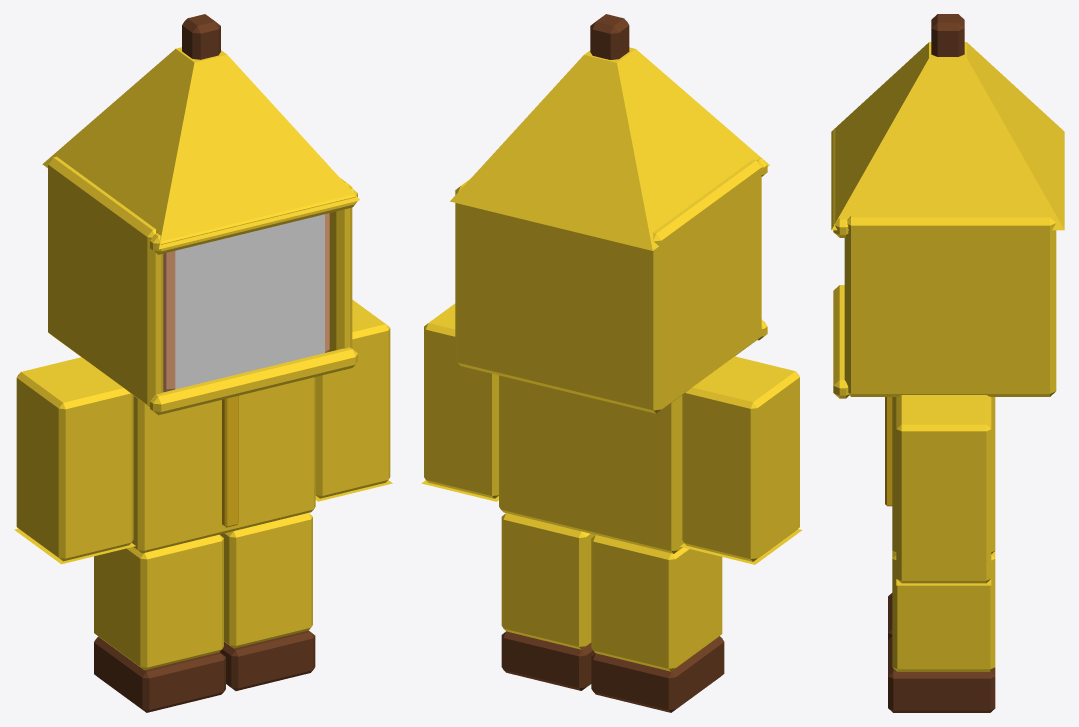
Rendered from nana.glb.
The picture shows the model from 3 angles, left to right: view 1: azimuth 30°, elevation 25°; view 2: azimuth 150°, elevation 25°; view 3: azimuth 270°, elevation 25°; orthographic projection.
Visible parts, largest first — view 1: Cone, Cube.004, Cube.005, Plane, Cube.010, Cube, Cube.007, Cube.002, Cube.001, Cube.014, Cube.003, Cube.011 (+4 smaller); view 2: Cube.012, Cone, Cube.004, Cube.005, Cube.010, Cube, Cube.007, Cube.002, Cube.001, Cube.003, Cube.015; view 3: Cube.011, Cone, Cube.007, Cube.002, Cube.003, Cube.012, Cube.004, Cube.015, Cube.014, Cube.016, Cube.013.
Boxes of the visible parts, box(x1,y1,x2,y2) form: Cone: box(42, 47, 359, 249); Cube.004: box(131, 377, 315, 553); Cube.005: box(16, 357, 133, 561); Plane: box(175, 214, 324, 389); Cube.010: box(50, 159, 163, 406); Cube: box(94, 534, 223, 670); Cube.007: box(315, 299, 390, 498); Cube.002: box(220, 513, 312, 648); Cube.001: box(94, 636, 225, 712); Cube.014: box(150, 347, 357, 415); Cube.003: box(220, 630, 315, 690); Cube.011: box(329, 178, 352, 351); Cube.012: box(455, 184, 664, 413); Cone: box(450, 47, 769, 250); Cube.004: box(499, 375, 683, 553); Cube.005: box(682, 356, 799, 561); Cube.010: box(656, 159, 761, 408); Cube: box(591, 535, 722, 671); Cube.007: box(424, 303, 498, 498); Cube.002: box(501, 513, 595, 649); Cube.001: box(591, 636, 724, 712); Cube.003: box(501, 631, 595, 690); Cube.015: box(590, 14, 629, 59); Cube.011: box(844, 215, 1044, 396); Cone: box(831, 42, 1064, 230); Cube.007: box(896, 395, 991, 583); Cube.002: box(892, 551, 995, 671); Cube.003: box(888, 636, 995, 712); Cube.012: box(1044, 215, 1056, 396); Cube.004: box(892, 397, 995, 553); Cube.015: box(931, 14, 964, 56); Cube.014: box(833, 285, 849, 398); Cube.016: box(885, 397, 892, 506); Cube.013: box(833, 128, 848, 237).
Size of the model in its own units: 1.86 by 3.5 by 1.13.
